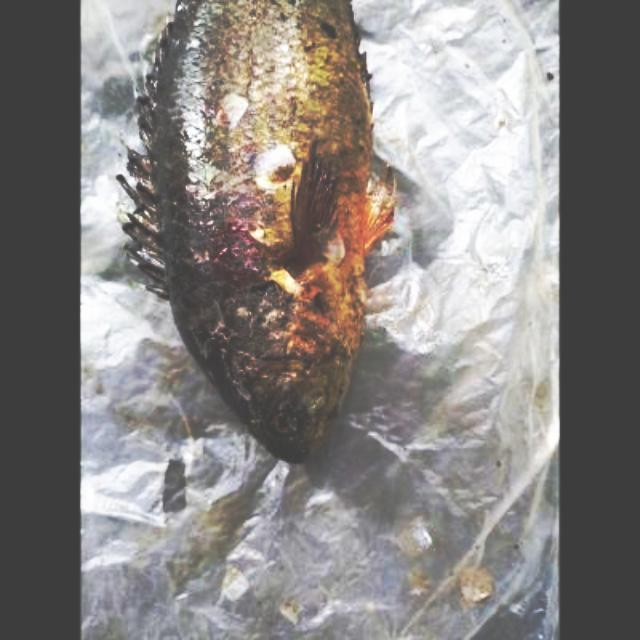Columnaris Disease: (120, 0, 394, 461)
